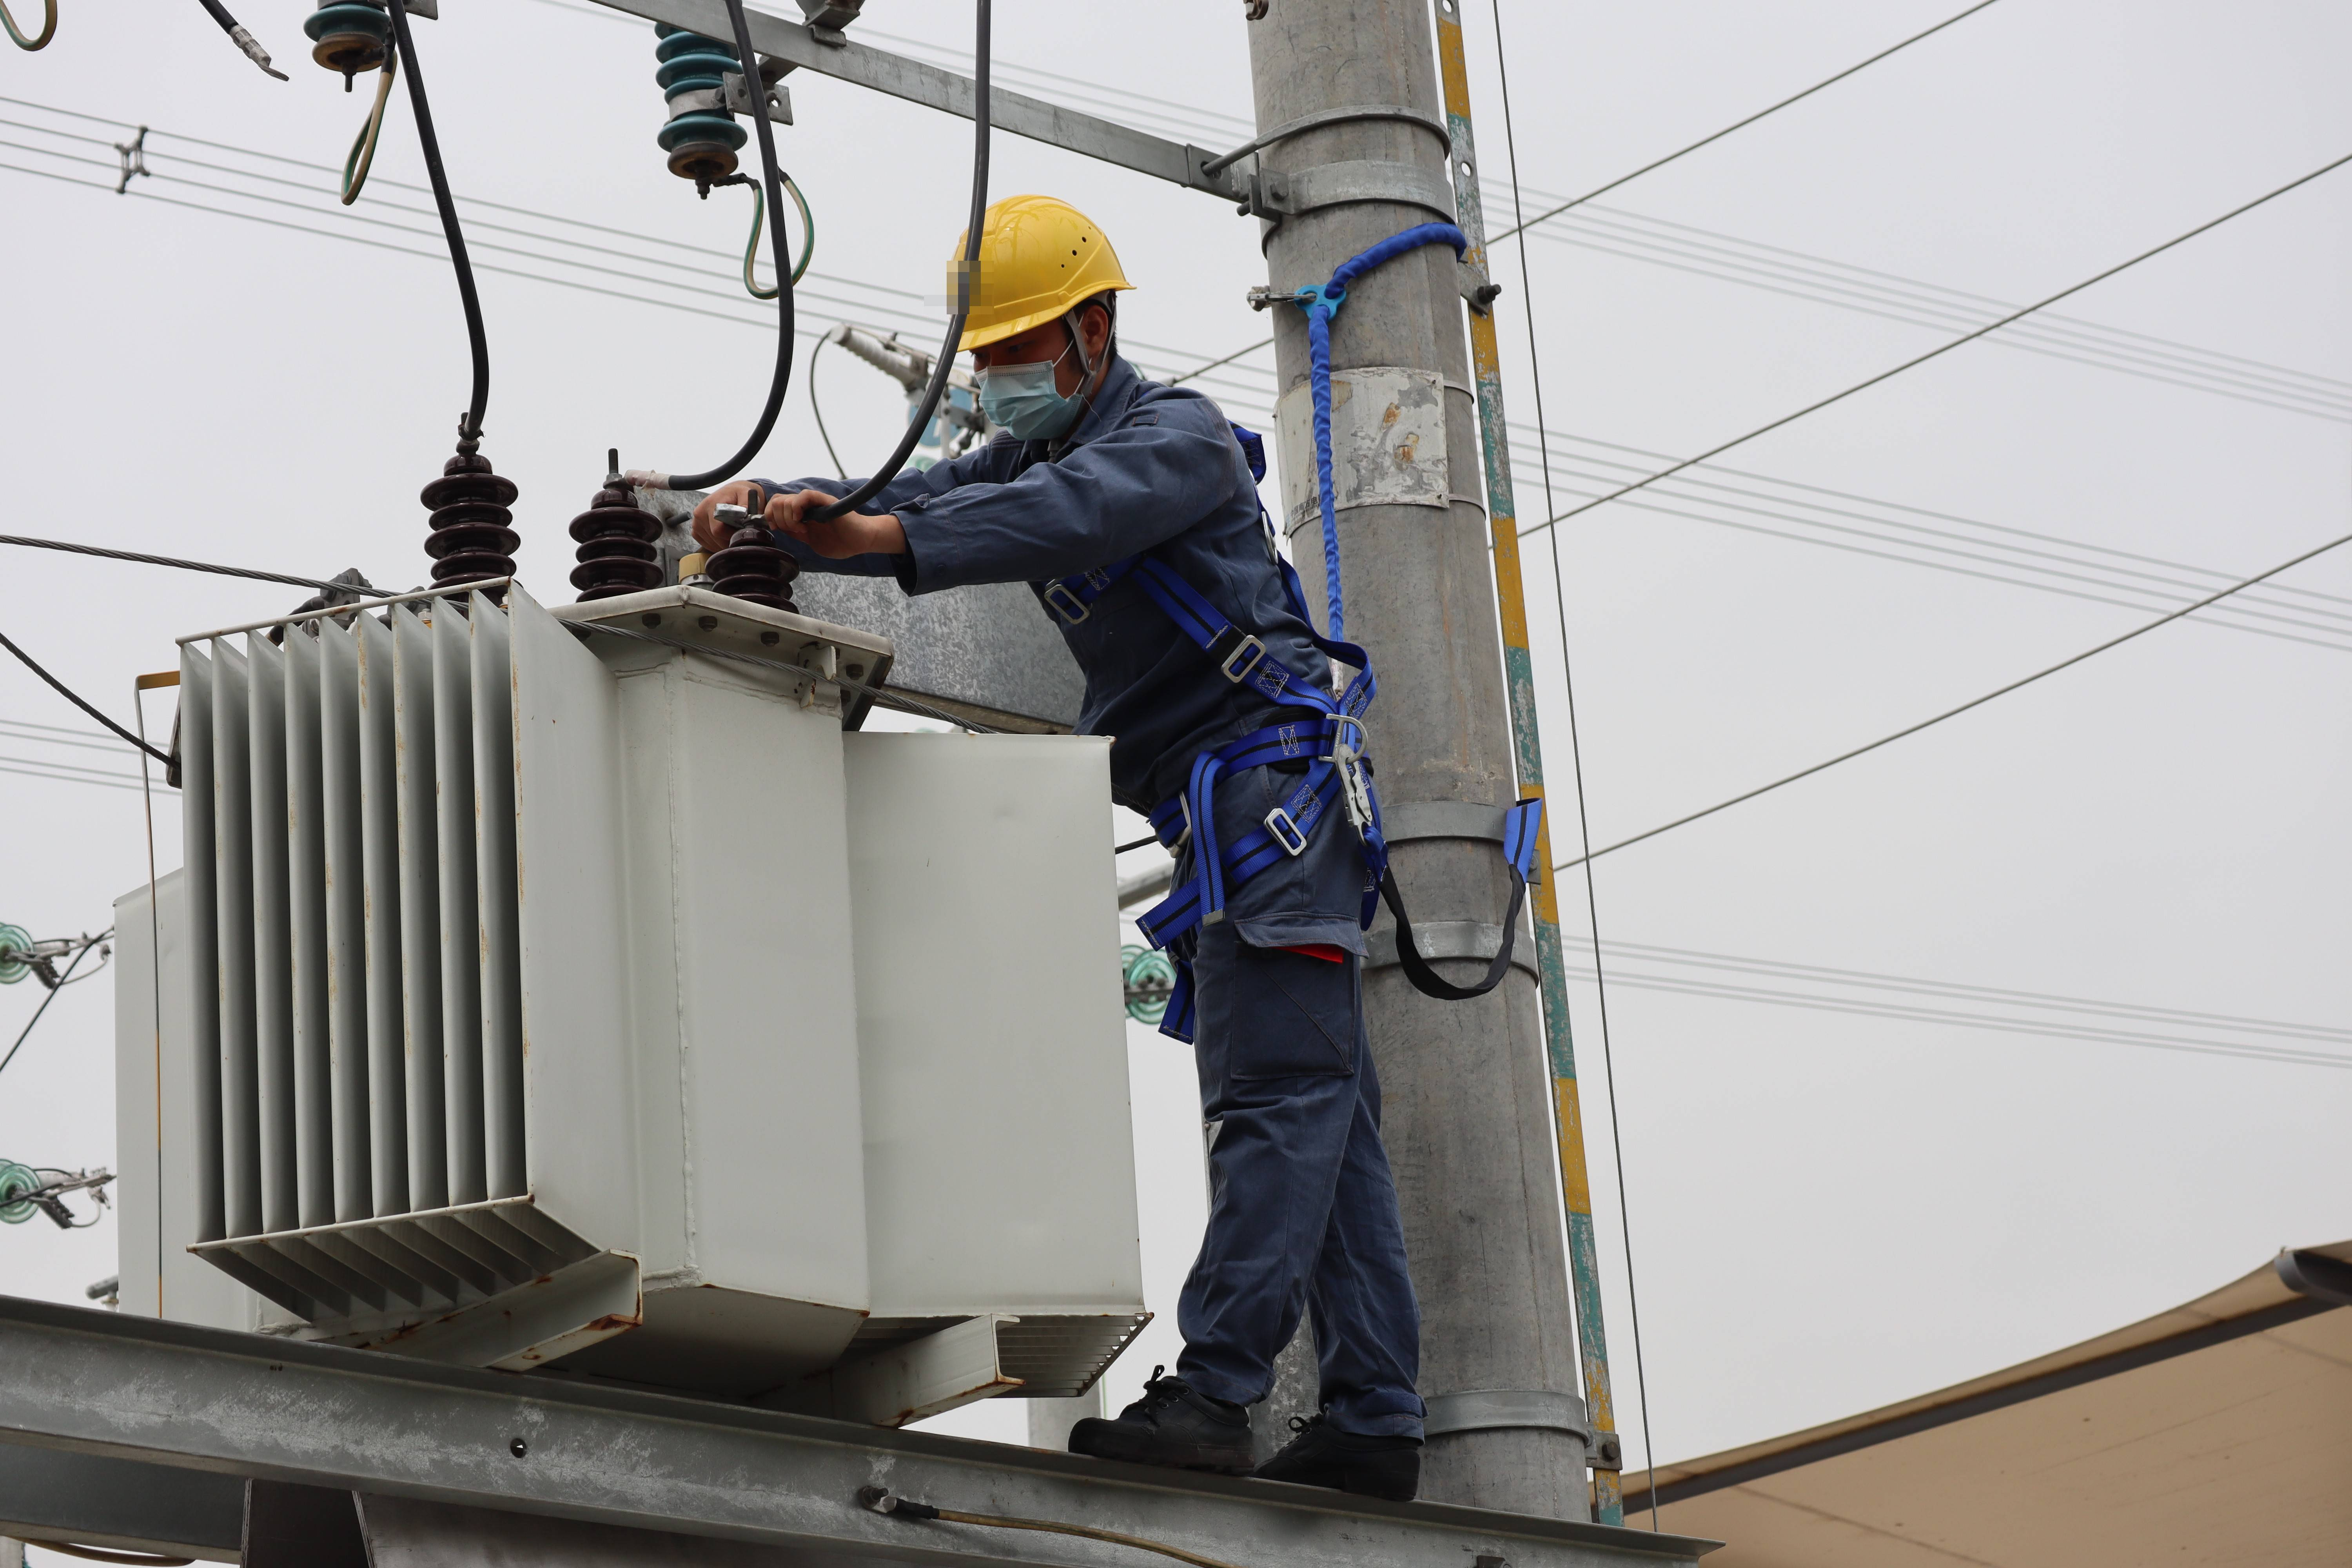downsuit: (1171, 756, 1421, 1431)
upsuit: (973, 399, 1321, 781)
